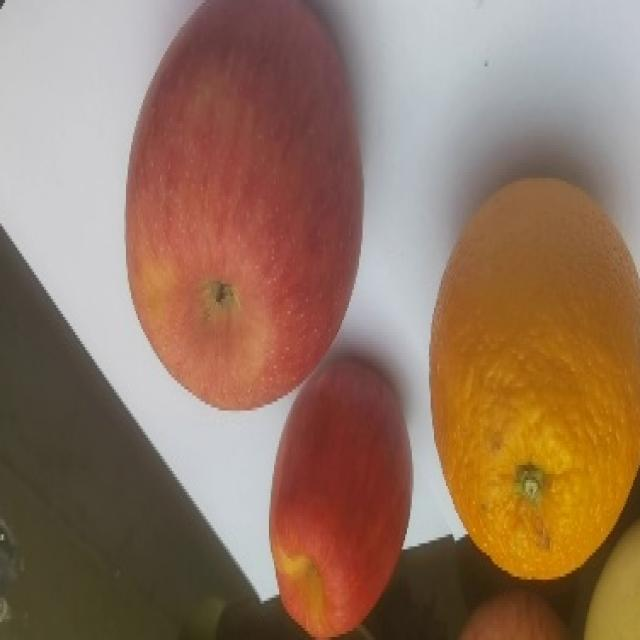Apple: (123, 0, 364, 411), (268, 355, 413, 638)
Orange: (428, 176, 639, 580)
